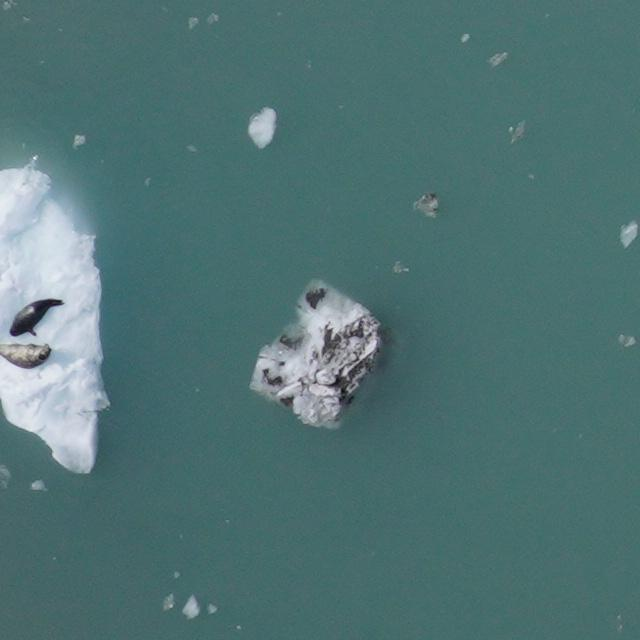seal: (3, 283, 65, 348), (0, 344, 51, 368)
